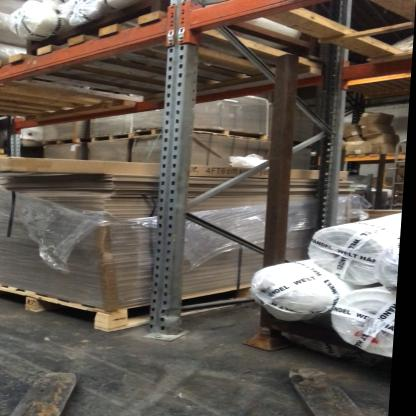vertical_damage: (146, 292, 205, 347)
